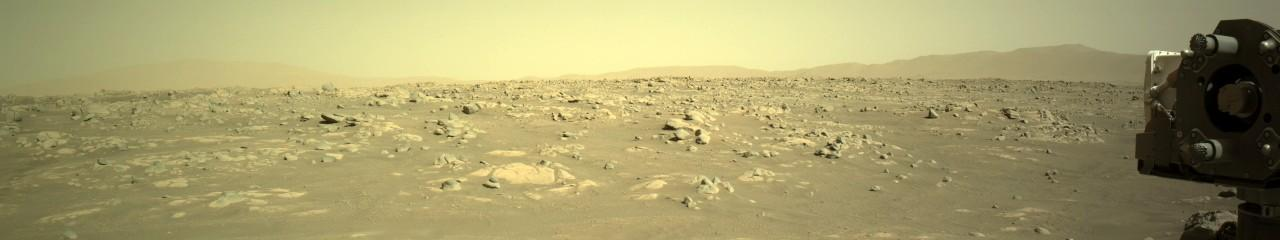bedrock: (1, 60, 1275, 238), (1112, 232, 1173, 237)
soil: (964, 150, 1217, 235), (693, 199, 950, 235), (395, 217, 604, 235)
